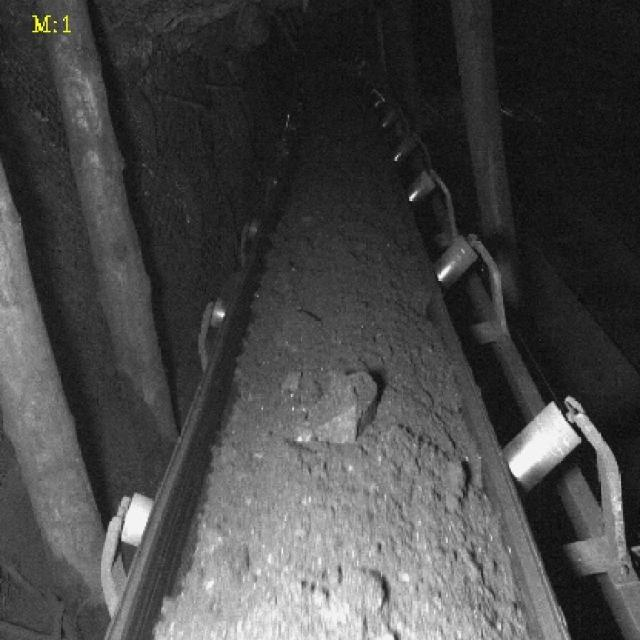large_sized_coal: (303, 372, 382, 450), (283, 366, 322, 412)
